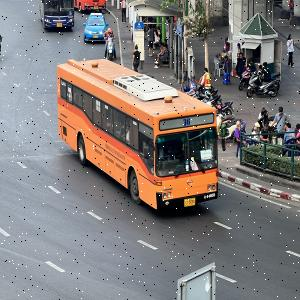BMTA-bus: (56, 59, 219, 211)
Bus Line Number: (182, 117, 193, 127)
Bus Side Number: (204, 191, 216, 199)
Destination Sign: (200, 149, 213, 162)
